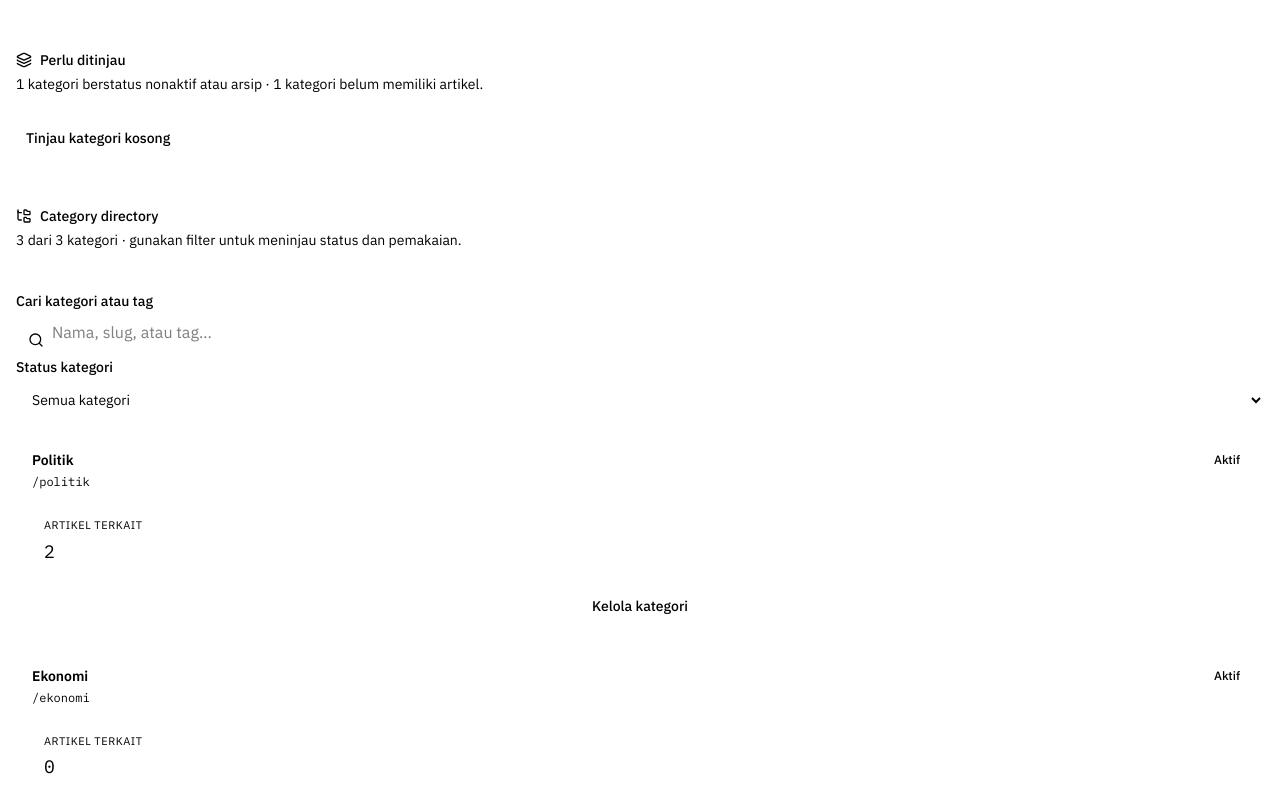
Test case: Taxonomy Control Center V2 › filters unused categories and preserves source status
(page scrolled)
Select "Belum digunakan" in the dropdown labelled "Status kategori": (640, 400) top-left (16, 382), bottom-right (1264, 418)
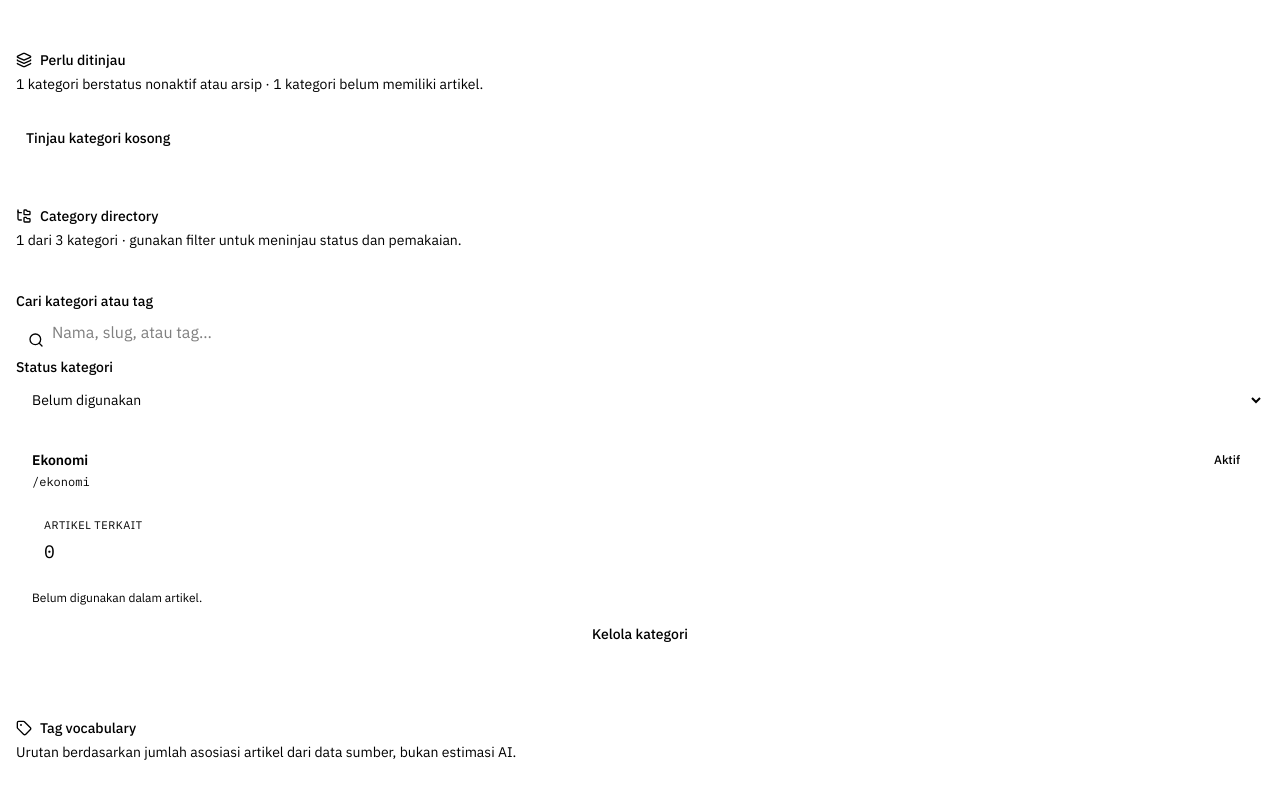
Expected: the element "Ekonomi" is shown, top-left (16, 434), bottom-right (1264, 666)
Now the element "Politik" is gone
